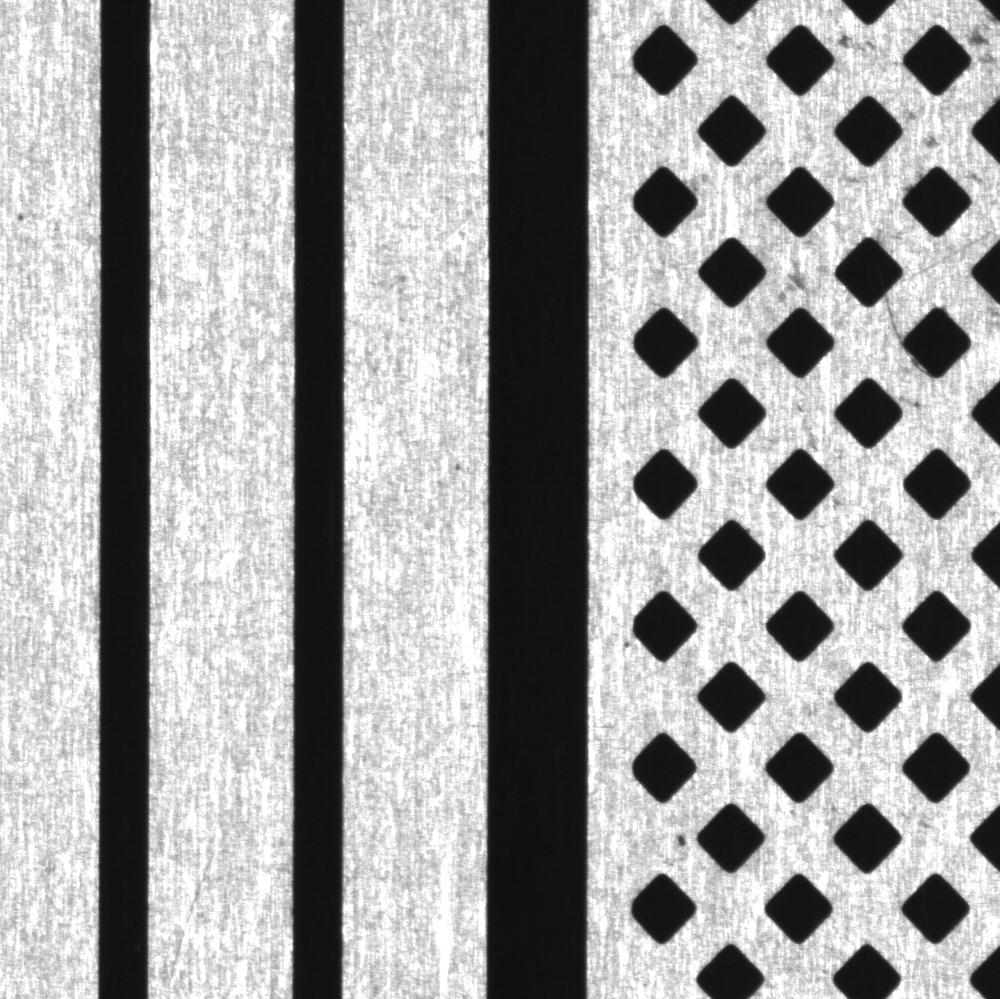Pinhole: (7, 200, 39, 235), (447, 454, 468, 481)
Scar: (155, 822, 240, 999)
